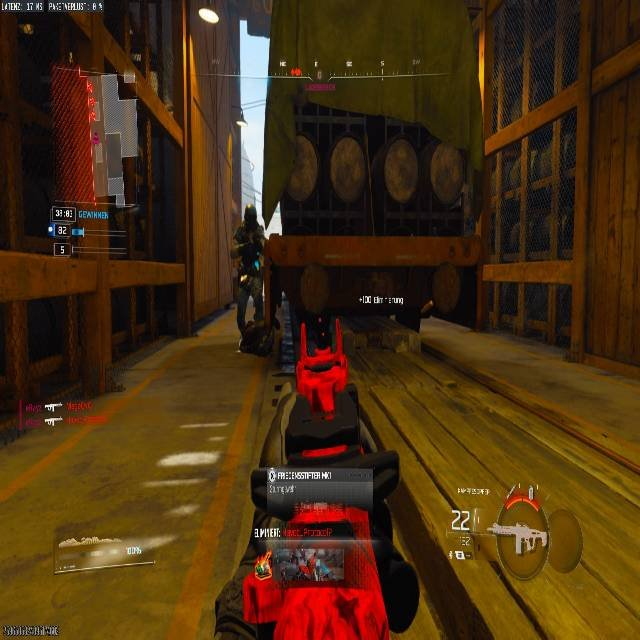head: (242, 207, 258, 226)
player: (232, 207, 266, 329)
